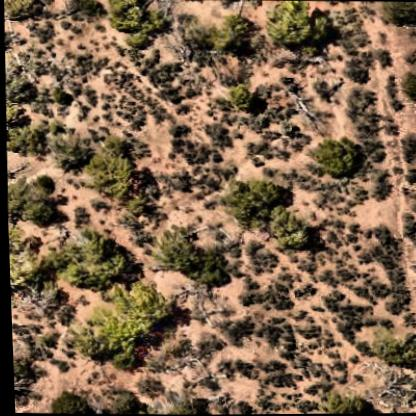tree-top: (71, 284, 182, 370), (51, 231, 129, 293), (82, 137, 138, 201), (223, 176, 281, 234), (266, 0, 327, 54), (149, 220, 200, 274), (265, 202, 312, 251), (312, 134, 362, 177), (8, 235, 48, 284), (6, 119, 51, 158), (216, 7, 256, 50), (51, 129, 93, 168), (19, 191, 61, 230), (109, 0, 150, 37), (179, 15, 216, 53), (382, 337, 416, 370), (225, 80, 259, 111), (44, 391, 89, 414), (194, 258, 228, 288), (322, 392, 364, 414), (4, 0, 45, 22), (381, 1, 416, 26), (106, 390, 138, 414), (168, 396, 204, 415), (74, 0, 105, 19), (402, 70, 416, 102)
